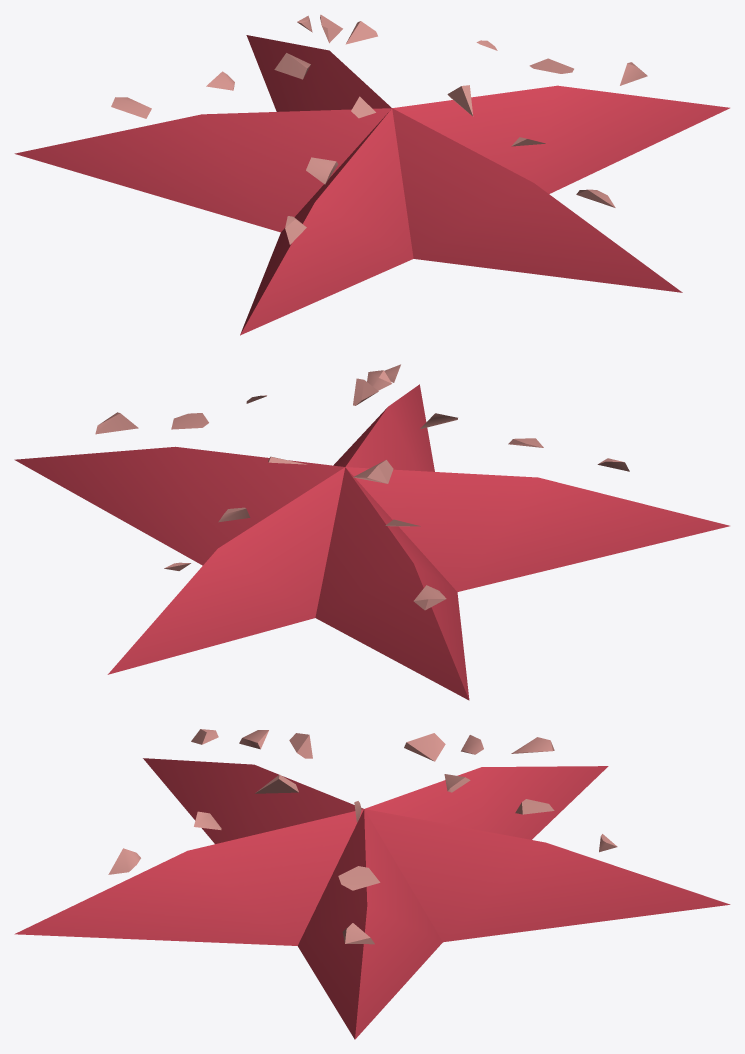
Rendered from starfish_red.glb.
3 renders of one model, top to bottom at view 1: azimuth 30°, elevation 25°; view 2: azimuth 150°, elevation 25°; view 3: azimuth 270°, elevation 25°, orthographic. The views are drawn at different scales.
Parts seen in each view (by area): view 1: starfish_red; view 2: starfish_red; view 3: starfish_red.
Part boxes in pixels (x1,y1,x2,y2): starfish_red: [14, 14, 729, 335]; starfish_red: [14, 364, 729, 700]; starfish_red: [14, 729, 730, 1039].
Size of the model in its own units: 0.6484 by 0.1497 by 0.6972.
